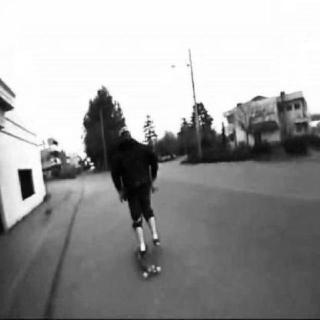other: (124, 232, 177, 286), (156, 137, 187, 177)
